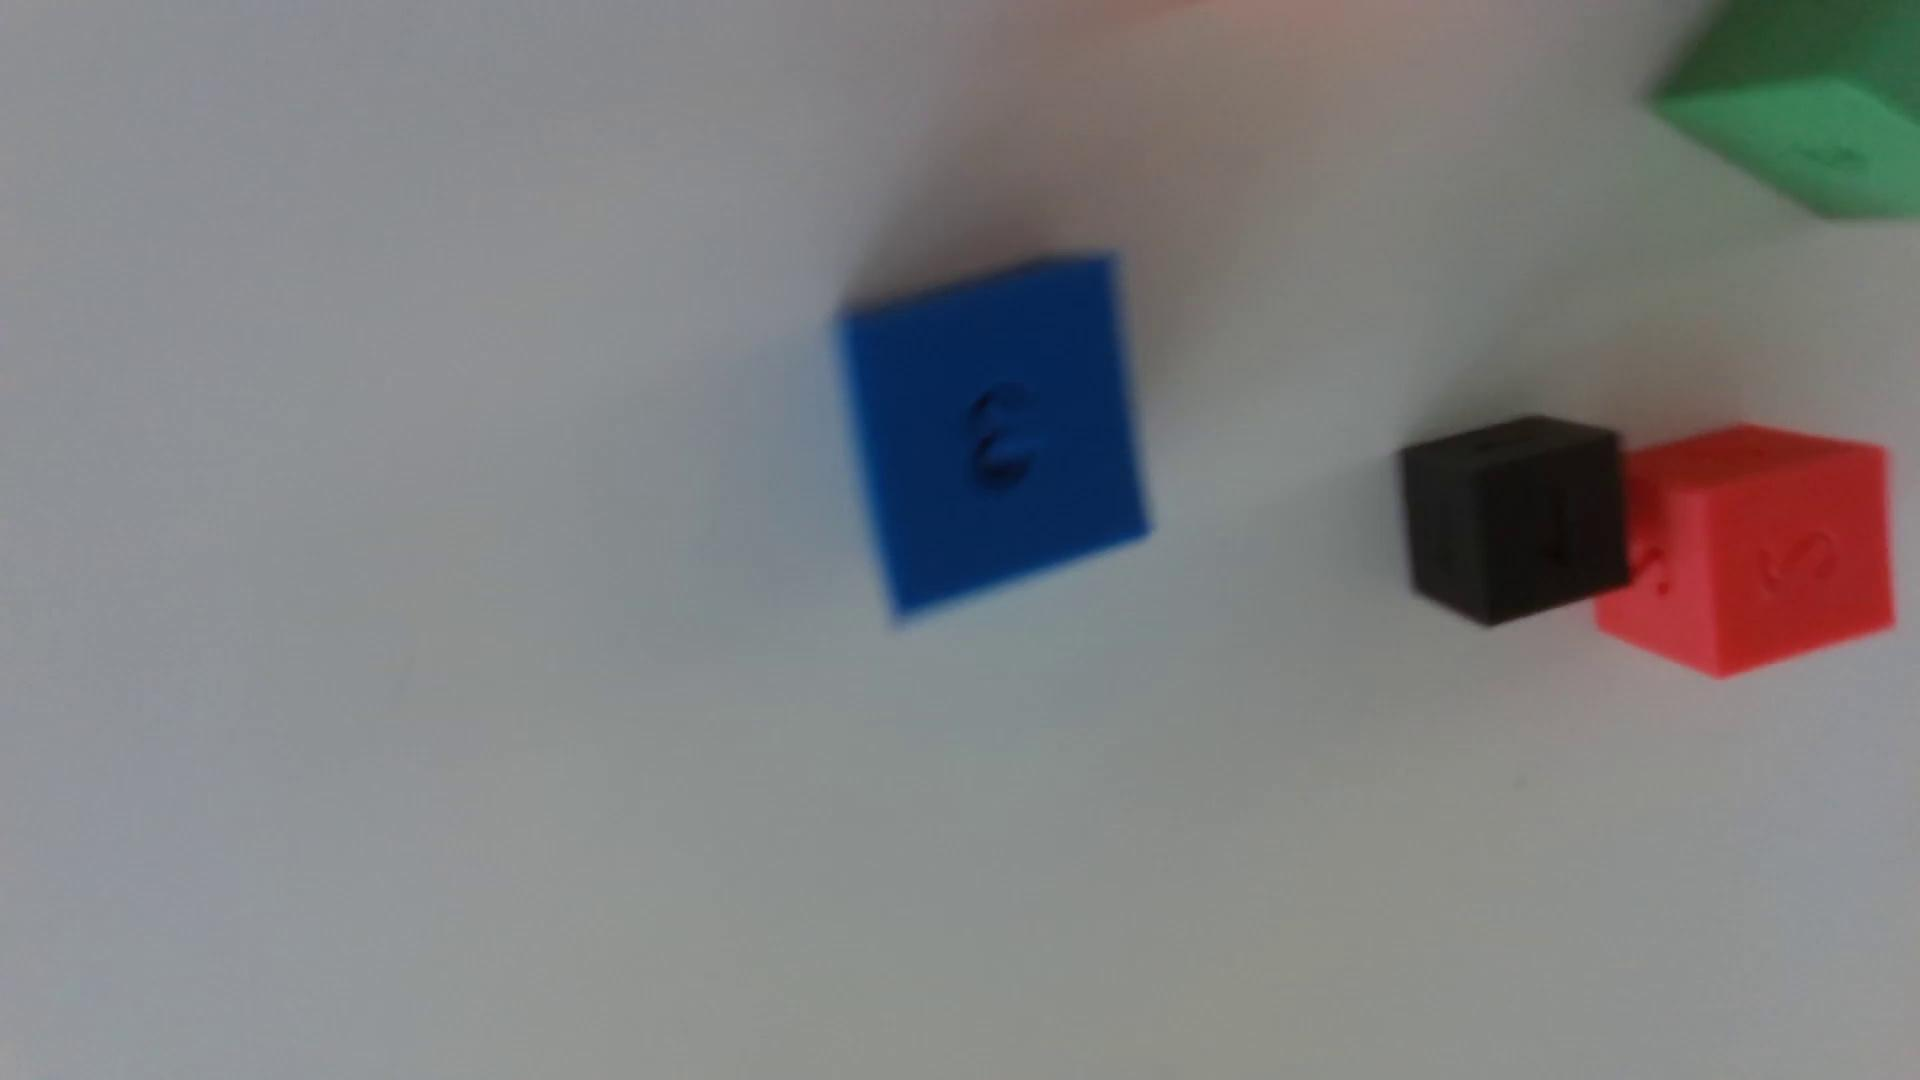black: (1398, 415, 1629, 626)
blue: (840, 254, 1150, 619)
green: (1650, 0, 1920, 220)
red: (1593, 424, 1895, 677)
